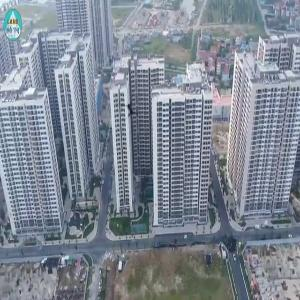drone: (108, 89, 152, 133)
